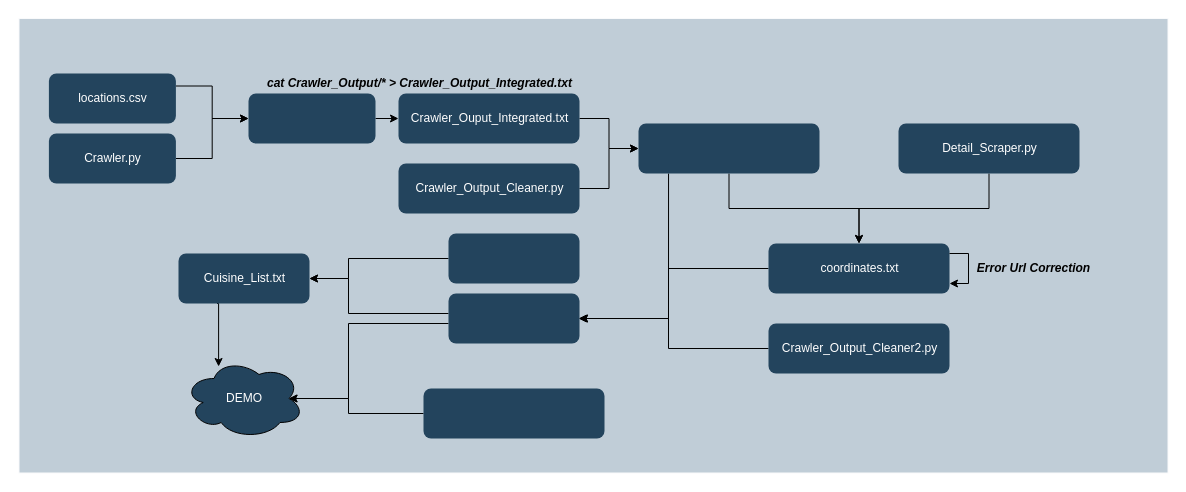
Image size: 1186x492. Some labels were removed from this diagram. The centre of each missing label's shape, as x and y in pixels:
Crawler_Ouput_Cleaned.csv: the point at 728,148
Crawler_Output/*: the point at 311,118
Cuisine_Lister.py: the point at 513,258
DoorDash_Clean.csv: the point at 513,318
DoorDash_Cuisine_Map.ipynb: the point at 513,413
